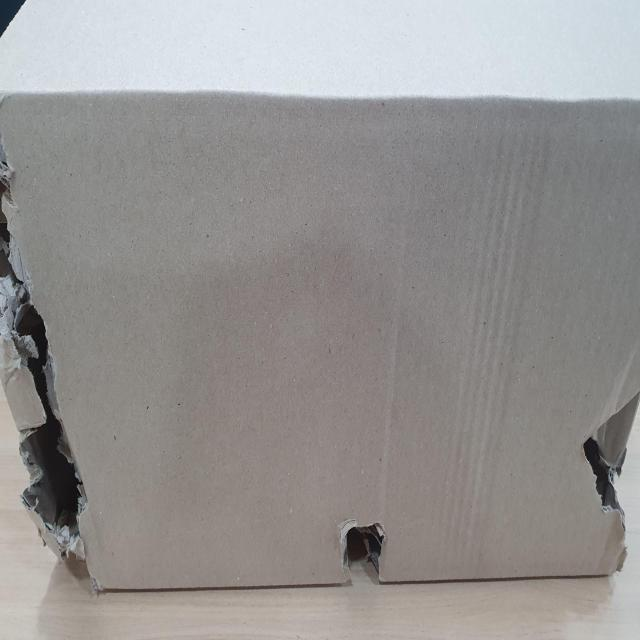damaged: (0, 186, 95, 564), (578, 395, 638, 553), (331, 511, 404, 588)
